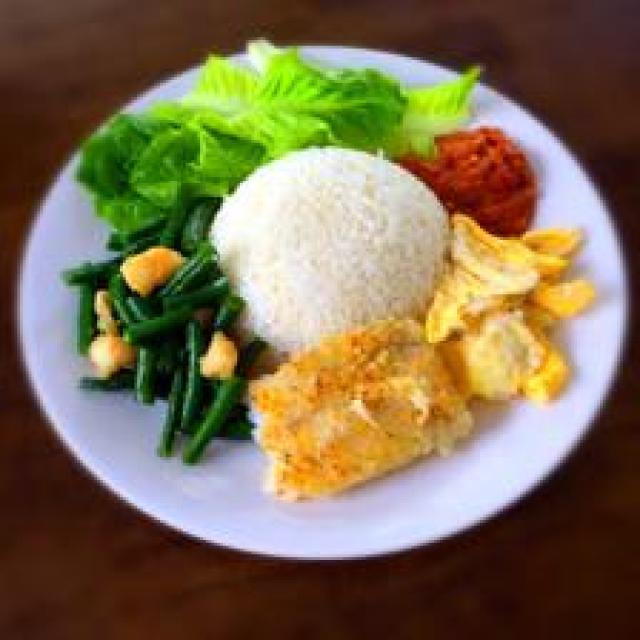Wet Waste: (209, 150, 486, 365)
